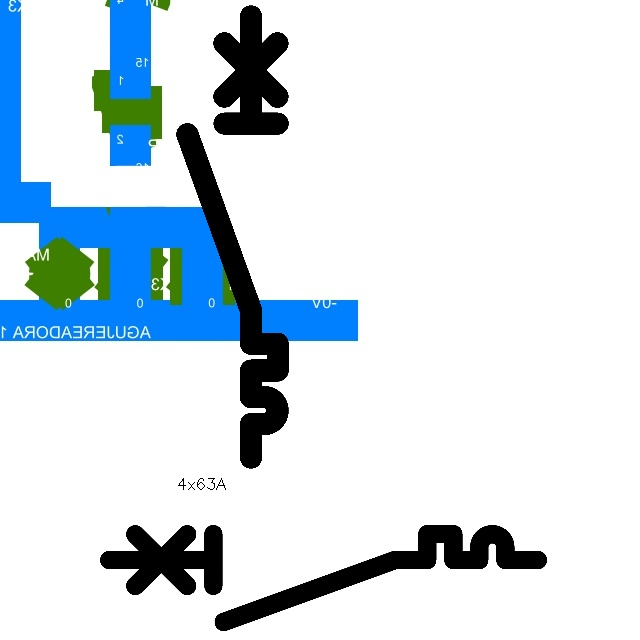interruptor_termomagnetico: (176, 5, 289, 469), (98, 523, 549, 633)
